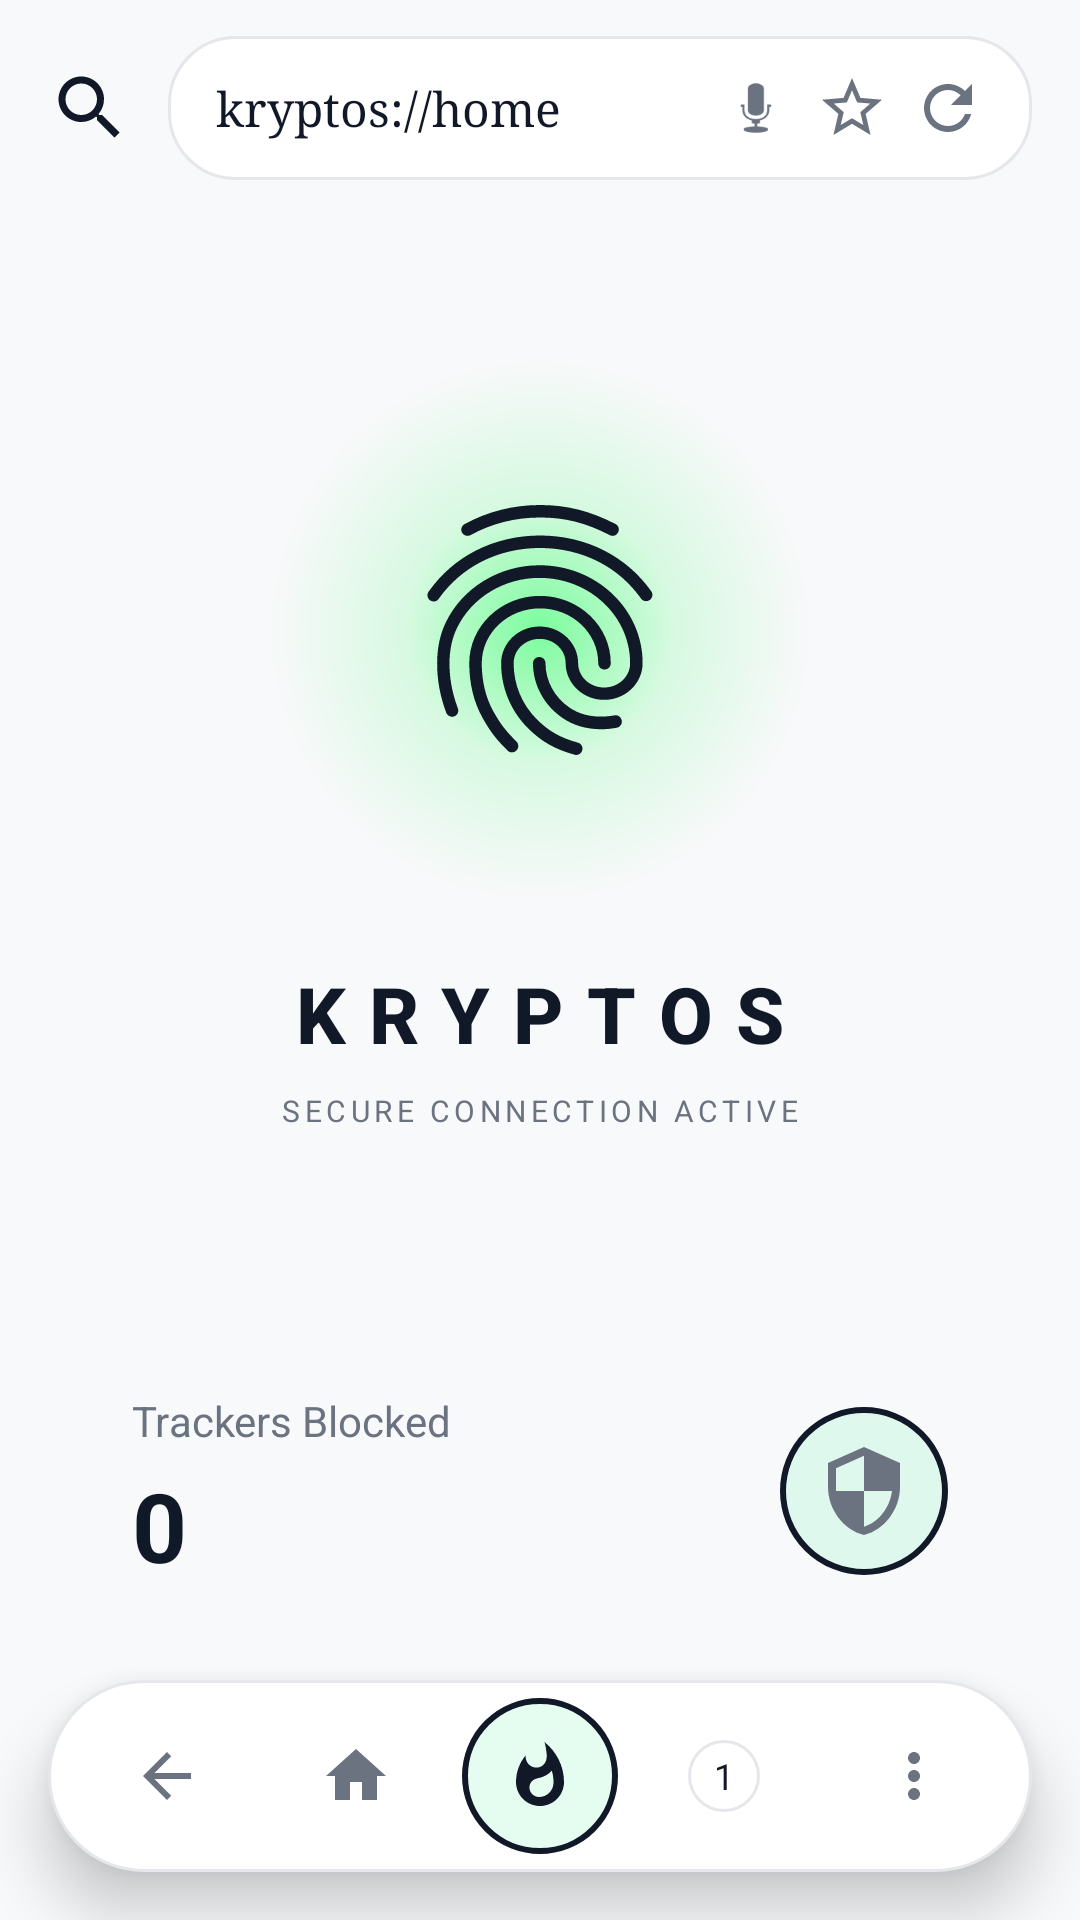

Icon bounding boxes for this 1080px x 1920px phone screenshot, format detection(x1, y1, x2, y2):
back: detection(72, 1680, 261, 1872)
fingerprint: detection(427, 505, 653, 755)
fire: detection(462, 1698, 618, 1854)
home: detection(326, 1749, 386, 1800)
menu: detection(819, 1680, 1008, 1872)
reload: detection(924, 84, 972, 132)
search engine: detection(58, 76, 120, 138)
shield: detection(828, 1447, 900, 1535)
speak now: detection(740, 83, 772, 133)
star empty: detection(822, 78, 882, 135)
